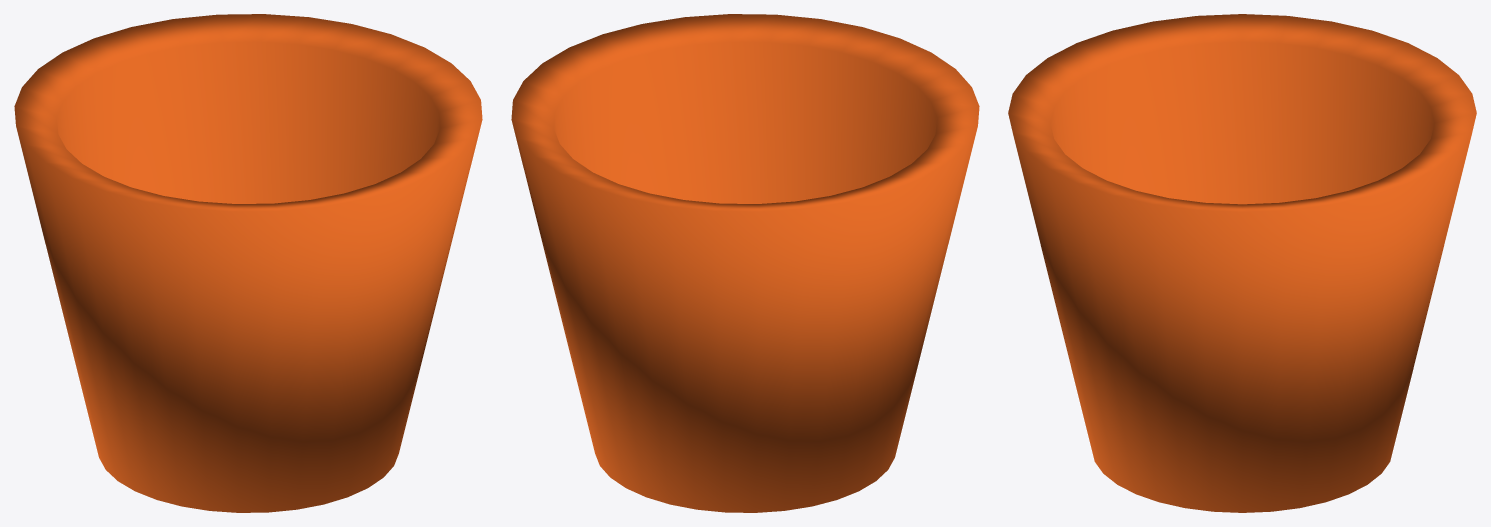
The model's file is FlowerPot.fbx.
3 views of the same model, side by side, from view 1: azimuth 30°, elevation 25°; view 2: azimuth 150°, elevation 25°; view 3: azimuth 270°, elevation 25° (orthographic).
Visible parts, largest first — view 1: Cylinder; view 2: Cylinder; view 3: Cylinder.
Boxes of the visible parts, left/top/right/bottom form: Cylinder: left=14, top=14, right=482, bottom=512; Cylinder: left=511, top=14, right=979, bottom=512; Cylinder: left=1008, top=14, right=1476, bottom=512.
Bounding box in the file's own units: 20704 × 16389 × 20704.
